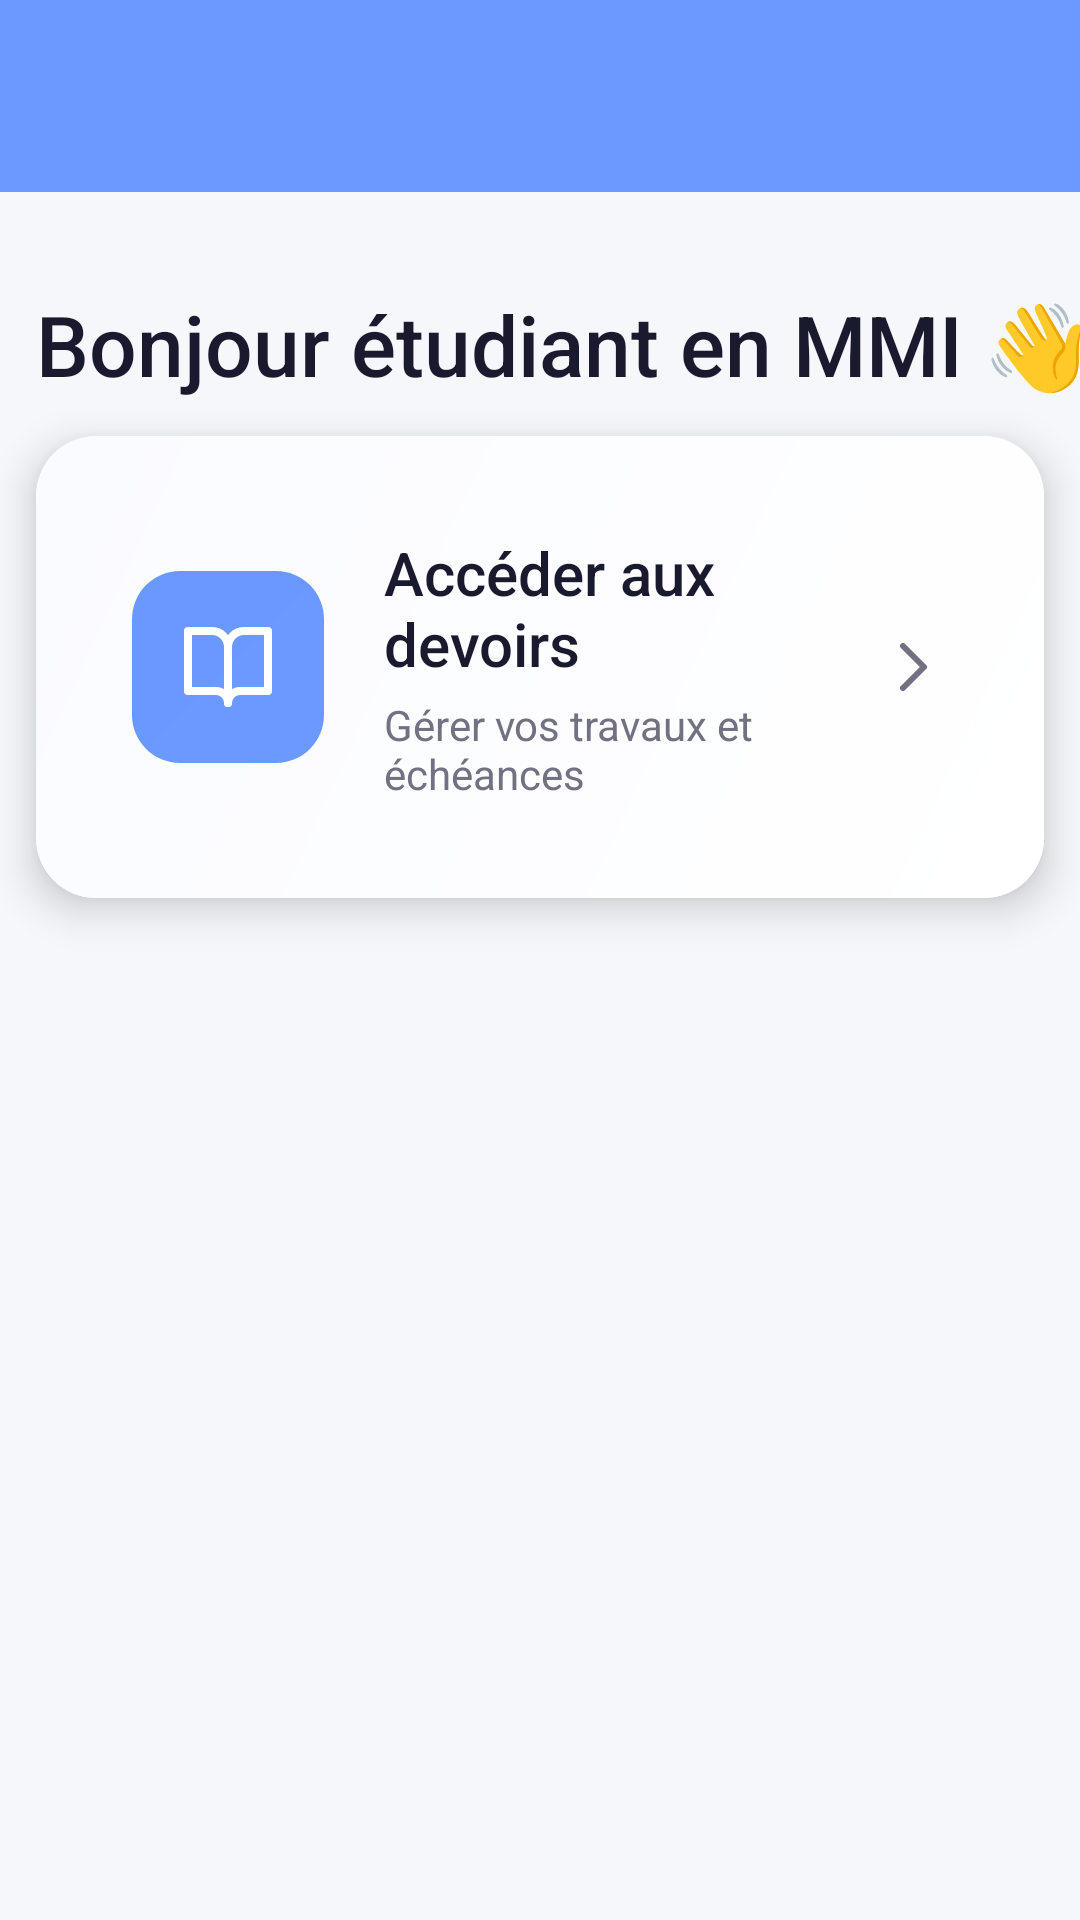

Icons on this 1080w x 1920h Android screen, each with its box as {"left": x1, "top": y1, "right": x2, "bottom": y2}:
book open: {"left": 184, "top": 627, "right": 272, "bottom": 707}
chevron right: {"left": 900, "top": 643, "right": 927, "bottom": 691}
